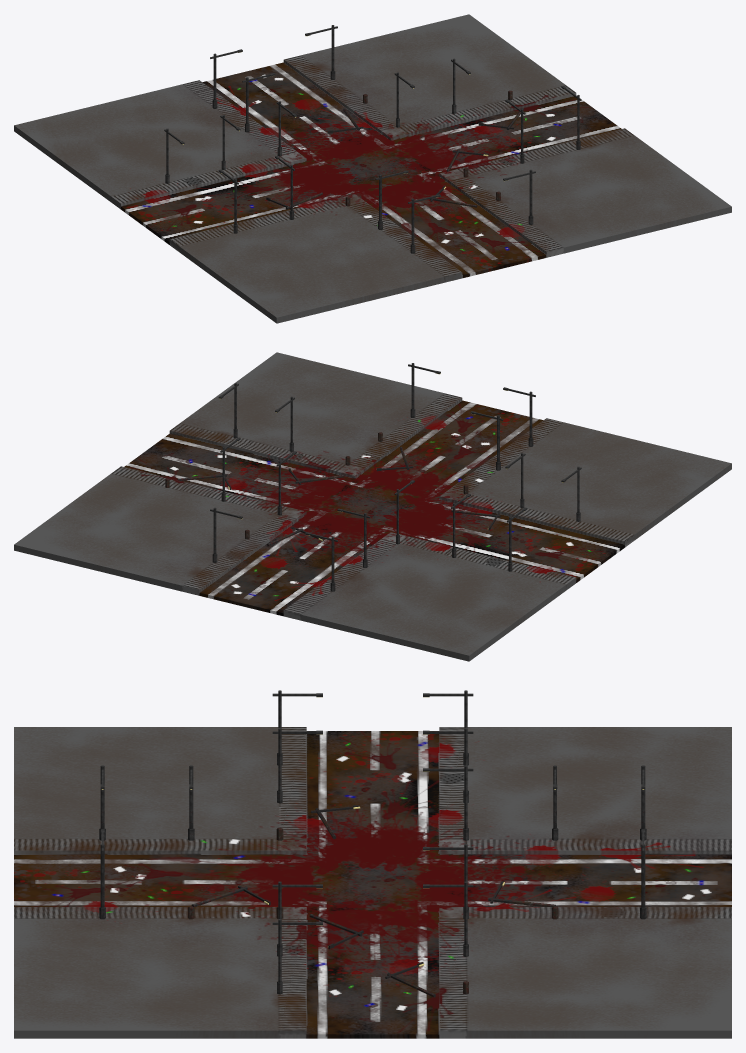
File: Floor.fbx
The picture shows the model from 3 angles, top to bottom: view 1: azimuth 30°, elevation 25°; view 2: azimuth 150°, elevation 25°; view 3: azimuth 270°, elevation 25°; orthographic projection. The views are drawn at different scales.
Parts seen in each view (by area): view 1: Floor; view 2: Floor; view 3: Floor.
Boxes of the visible parts, x1,y1,x2,y2 form: Floor: (14,14,731,323); Floor: (14,352,731,661); Floor: (14,727,731,1038).
Bounding box in the file's own units: 153 × 19.15 × 153.
